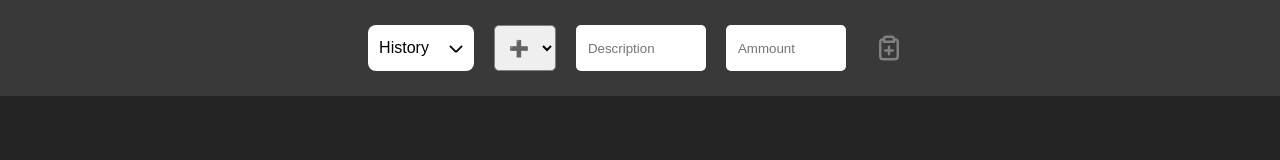
Test case: Options component › it loads new entries correctly
Expected: the number field with placeholder "Ammount" is empty, top-left (726, 25), bottom-right (846, 71)
Expected: the button named "submit" is disabled, top-left (866, 25), bottom-right (912, 71)
# User fills inputs and can add them
Step 1. Type "Ticket to disney land" into the field with placeholder "Description" → (641,48), box top-left (576, 25), bottom-right (706, 71)
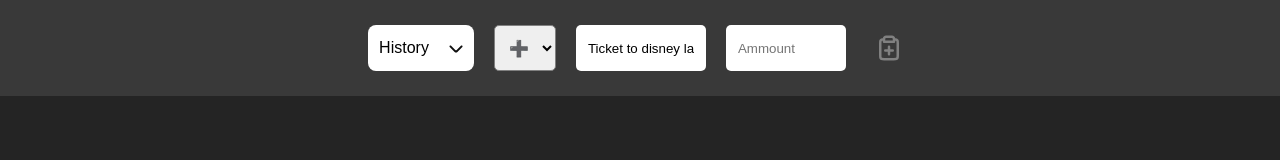
Step 2. Type "5.99" into the number field with placeholder "Ammount" → (786,48), box top-left (726, 25), bottom-right (846, 71)
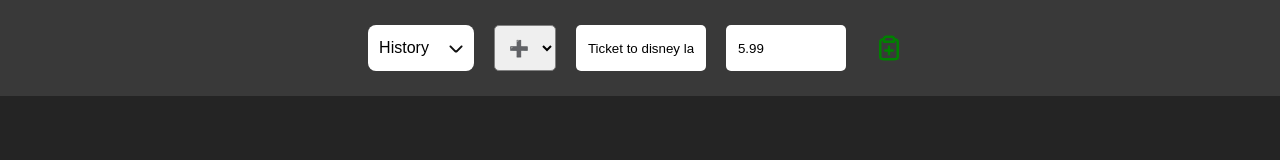
Expected: the button named "submit" is enabled
Step 3. Click the button named "submit" → (889,48), box top-left (866, 25), bottom-right (912, 71)
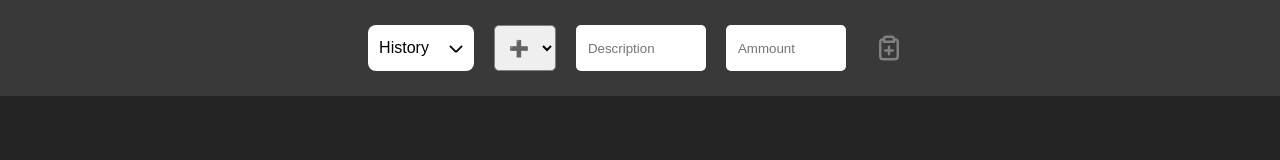
Expected: the button named "submit" is disabled, top-left (866, 25), bottom-right (912, 71)
Expected: the field with placeholder "Description" is empty, top-left (576, 25), bottom-right (706, 71)
Expected: the number field with placeholder "Ammount" is empty, top-left (726, 25), bottom-right (846, 71)
